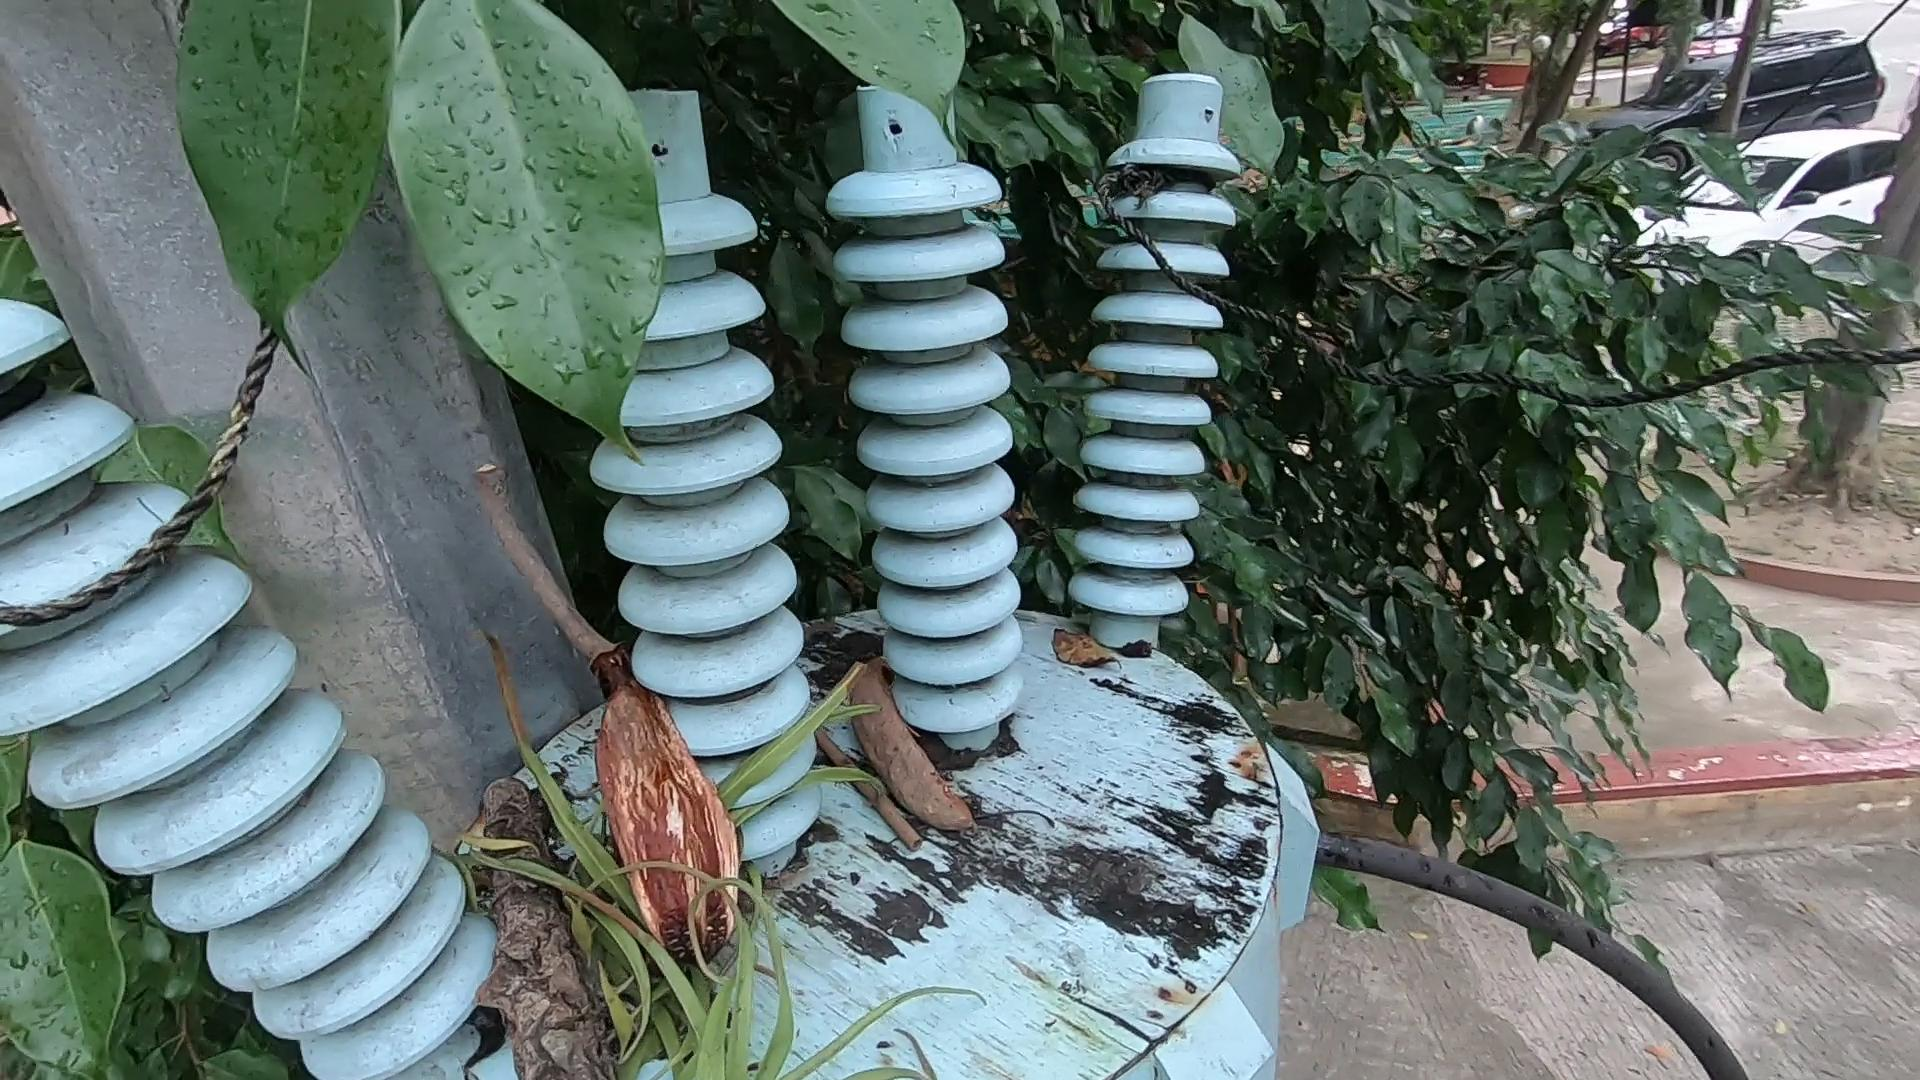branch with leaves: (433, 771, 815, 1080)
leaf: (1036, 599, 1156, 692)
mahogany fruit: (576, 669, 770, 984), (858, 653, 992, 865)
tree branch: (464, 442, 624, 690), (789, 696, 931, 849)
